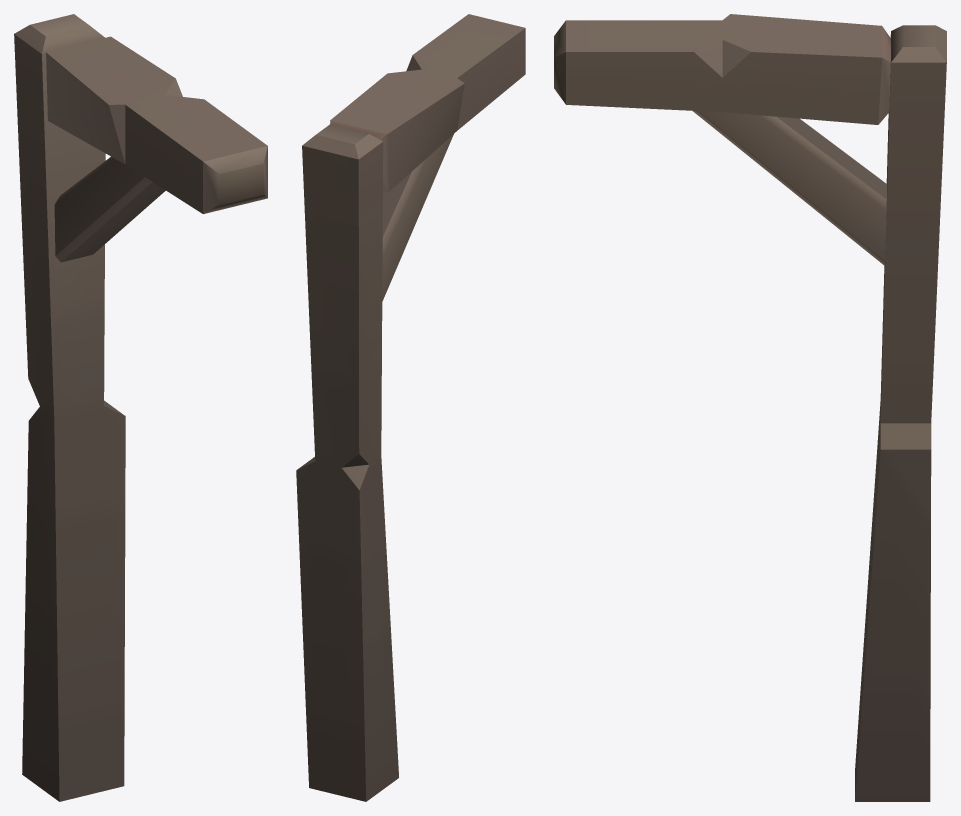
The model's file is kay-poste-madeira.gltf.
3 renders of one model, left to right at view 1: azimuth 30°, elevation 25°; view 2: azimuth 150°, elevation 25°; view 3: azimuth 270°, elevation 25°, orthographic. The views are drawn at different scales.
Visible parts, largest first — view 1: post; view 2: post; view 3: post.
Part boxes in pixels (left/top/right/bottom): post: left=14, top=14, right=267, bottom=801; post: left=296, top=14, right=525, bottom=801; post: left=554, top=14, right=946, bottom=801.
Bounding box in the file's own units: 0.2119 × 1.65 × 0.7832.
Materials: 1 (1 with a texture image).
